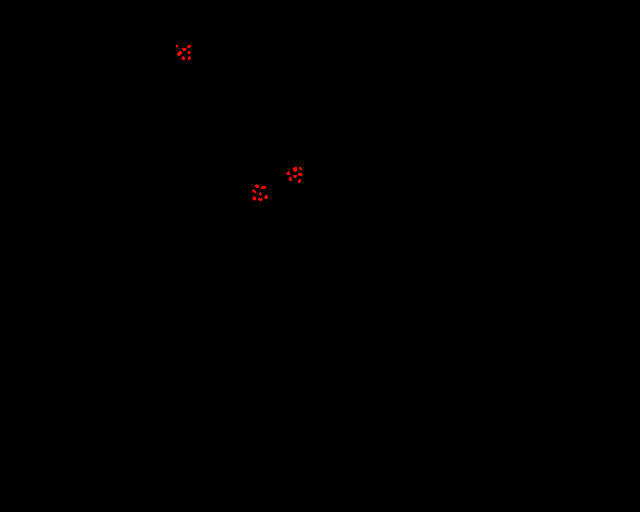Target: (177, 51, 182, 56), (293, 167, 297, 172), (252, 196, 256, 201), (181, 56, 185, 60), (286, 171, 290, 175), (255, 184, 259, 188), (252, 189, 256, 193), (264, 195, 268, 199), (298, 173, 303, 176), (261, 186, 266, 189), (258, 198, 263, 201), (187, 45, 191, 48), (182, 48, 186, 51), (188, 56, 191, 60), (293, 175, 297, 178), (289, 177, 292, 181), (298, 179, 301, 183), (259, 192, 262, 196), (188, 51, 191, 54), (299, 167, 302, 170), (176, 45, 178, 48)
